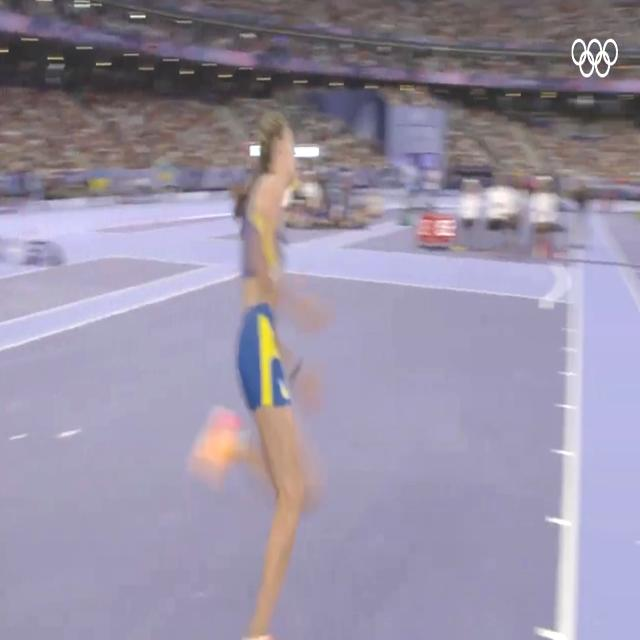run: (190, 112, 330, 640)
